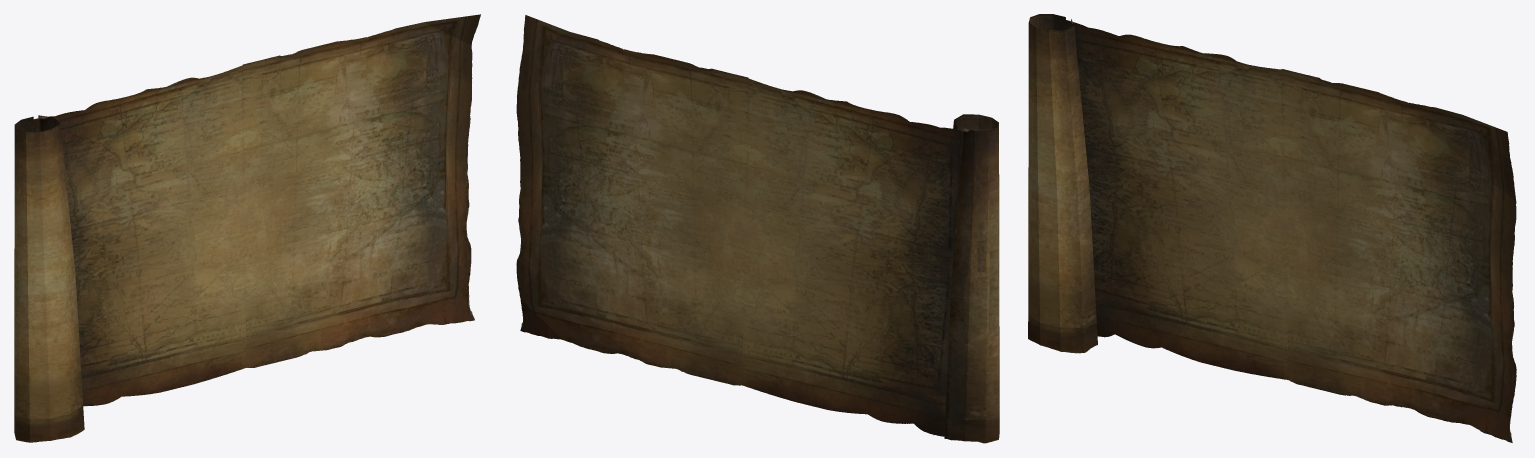
File: juqing_fuben_544_ditu_01.obj
3 renders of one model, left to right at view 1: azimuth 30°, elevation 25°; view 2: azimuth 150°, elevation 25°; view 3: azimuth 330°, elevation 25°, orthographic.
Parts seen in each view (by area): view 1: juqing_fuben_544_ditu_01; view 2: juqing_fuben_544_ditu_01; view 3: juqing_fuben_544_ditu_01.
Boxes of the visible parts, bbox=[...] form: juqing_fuben_544_ditu_01: bbox=[14, 14, 480, 442]; juqing_fuben_544_ditu_01: bbox=[516, 15, 999, 443]; juqing_fuben_544_ditu_01: bbox=[1028, 14, 1516, 442].
Size of the model in its own units: 774 by 487 by 69.74.
2 materials, 2 textured.
